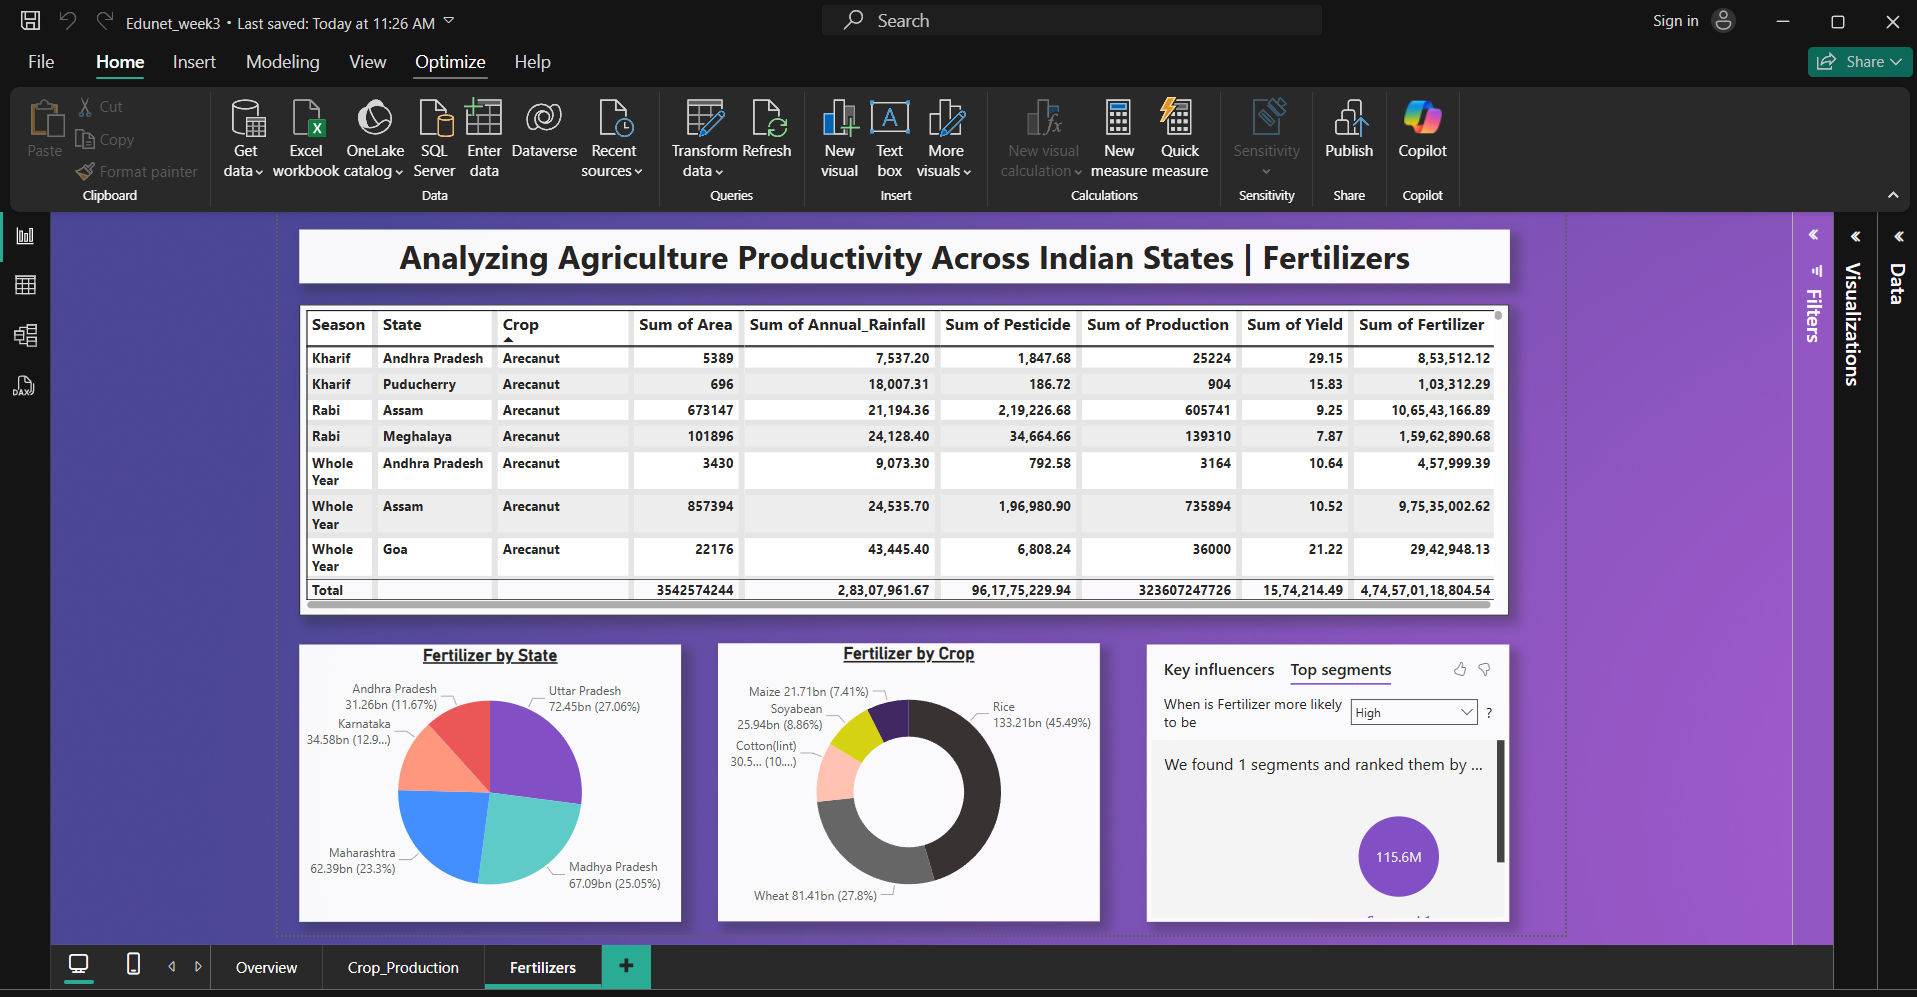

The page's visual inventory and layout, read from the dashboard file:
{"tool":"powerbi","page":{"name":"Fertilizers","canvas":[1280,720],"ordinal":2},"visuals":[{"type":"textbox","box":[20.6,17.8,1204.8,53.5],"z":0},{"type":"pieChart","title":" Fertilizer by State","fields":{"Y":["Sum(crop_yield.Fertilizer)"],"Category":["crop_yield.State"]},"box":[20.6,430.9,380.1,275.8],"z":1000},{"type":"donutChart","title":" Fertilizer by Crop","fields":{"Y":["Sum(crop_yield.Fertilizer)"],"Category":["crop_yield.Crop"]},"box":[437.7,429.5,380.1,277.2],"z":2000},{"type":"keyDriversVisual","fields":{"Target":["crop_yield.Fertilizer"],"ExplainBy":["Sum(crop_yield.Production)"]},"box":[864.5,430.9,360.9,275.8],"z":3000},{"type":"tableEx","fields":{"Values":["crop_yield.Season","crop_yield.State","crop_yield.Crop","Sum(crop_yield.Area)","Sum(crop_yield.Annual_Rainfall)","Sum(crop_yield.Pesticide)","Sum(crop_yield.Production)","Sum(crop_yield.Yield)","Sum(crop_yield.Fertilizer)"]},"box":[21.1,92.1,1204.2,309.7],"z":4000}]}

Visuals, with their boxes on the page's 1280x720 design canvas (x1, y1, x2, y2). These are canvas units, not pixel positions in the 1917x997 screenshot, which may show the page scaled, cropped or inside an application window:
textbox: {"left": 21, "top": 18, "right": 1225, "bottom": 71}
" Fertilizer by State" pieChart: {"left": 21, "top": 431, "right": 401, "bottom": 707}
" Fertilizer by Crop" donutChart: {"left": 438, "top": 430, "right": 818, "bottom": 707}
keyDriversVisual - crop_yield.Fertilizer x Sum(crop_yield.Production): {"left": 864, "top": 431, "right": 1225, "bottom": 707}
tableEx - crop_yield.Season x crop_yield.State: {"left": 21, "top": 92, "right": 1225, "bottom": 402}
